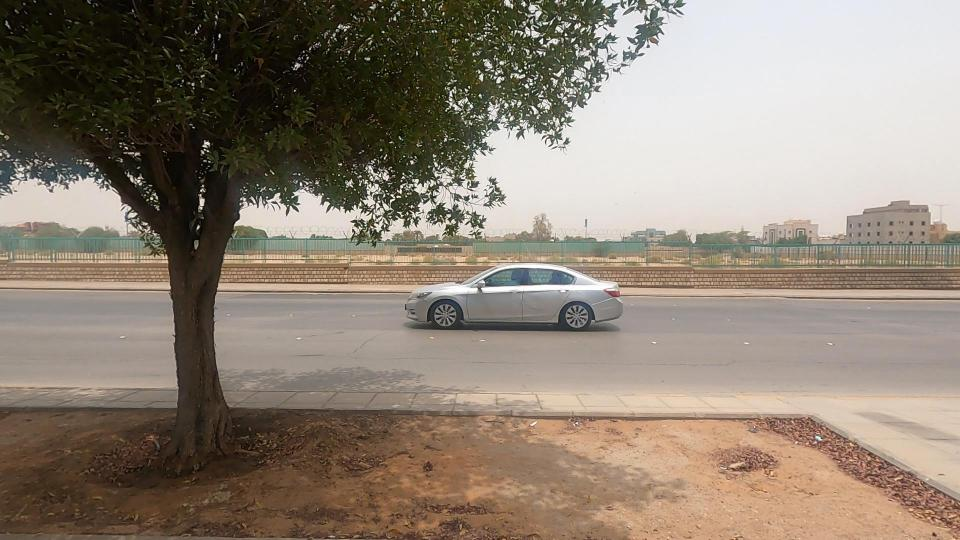CLUTTER_SIDEWALK: (172, 341, 960, 540)
